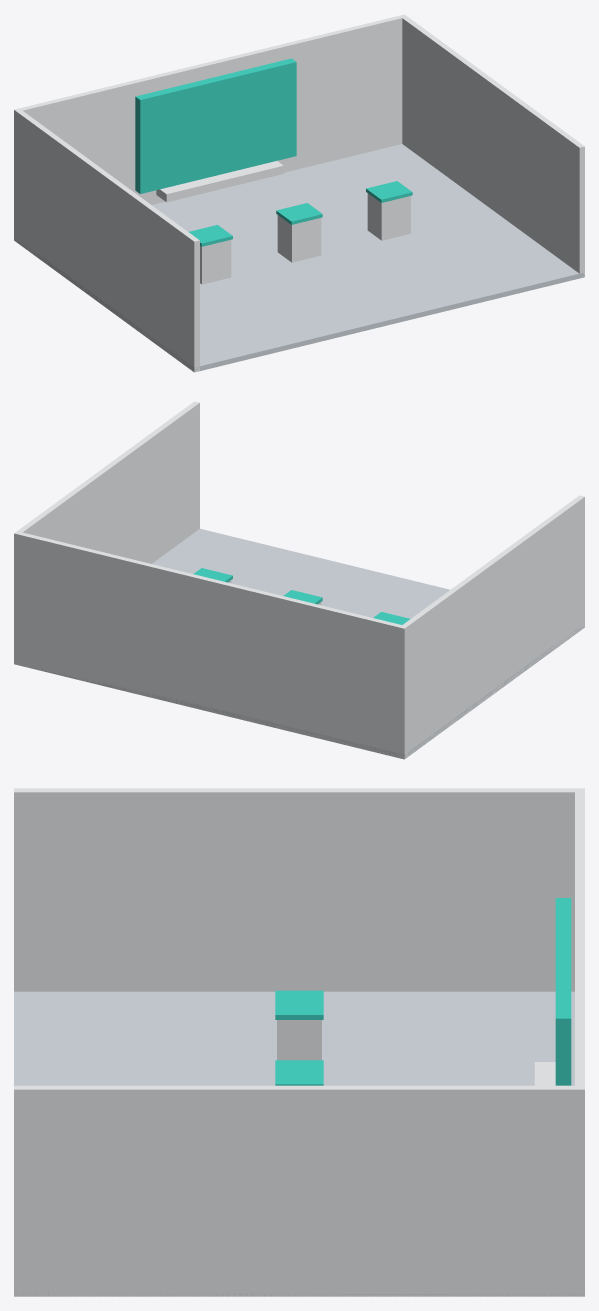
The picture shows the model from 3 angles, top to bottom: view 1: azimuth 30°, elevation 25°; view 2: azimuth 150°, elevation 25°; view 3: azimuth 270°, elevation 25°; orthographic projection. The views are drawn at different scales.
Visible parts, largest first — view 1: Exhibition Booth Concept; view 2: Exhibition Booth Concept; view 3: Exhibition Booth Concept.
Boxes of the visible parts, <box> form: Exhibition Booth Concept: <box>14,14,584,372</box>; Exhibition Booth Concept: <box>14,401,584,759</box>; Exhibition Booth Concept: <box>14,788,584,1296</box>.
Bounding box in the file's own units: 10 × 3.2 × 8.
